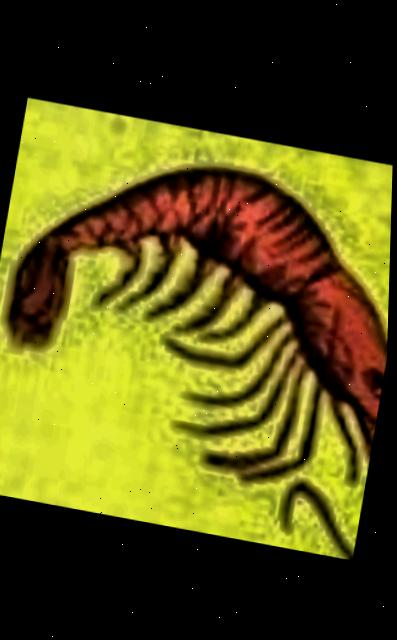El Camaron: (0, 97, 395, 557)
